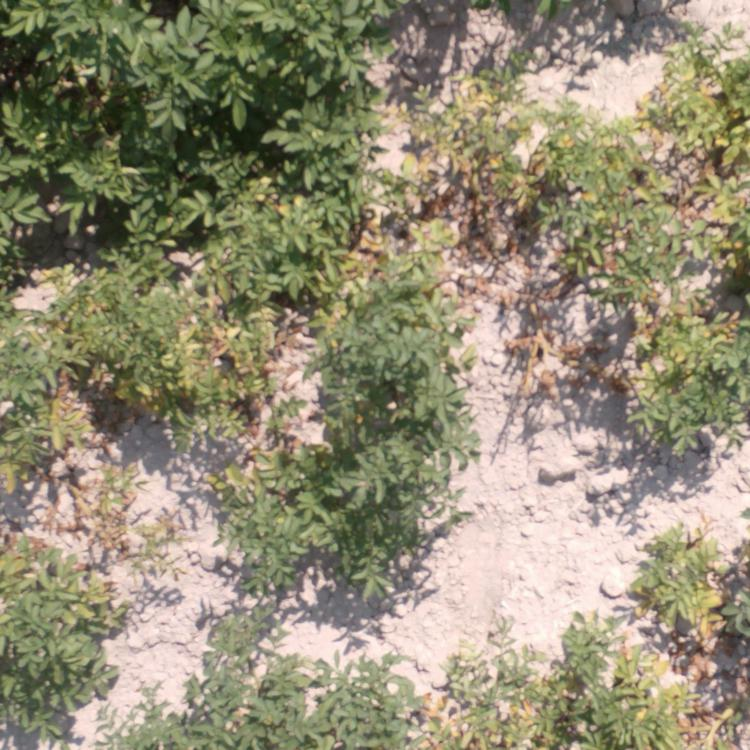healthy: (1, 1, 126, 225), (245, 455, 431, 592), (1, 545, 112, 741), (327, 330, 470, 454), (129, 1, 203, 232), (230, 1, 347, 141), (282, 654, 404, 750), (207, 605, 269, 750), (132, 681, 188, 750), (358, 1, 486, 28)
stressed: (361, 83, 536, 246), (639, 47, 750, 297), (95, 275, 256, 416), (571, 631, 749, 750), (611, 304, 750, 453), (541, 116, 645, 289), (406, 656, 574, 746), (209, 163, 343, 270), (626, 525, 750, 630), (1, 322, 77, 470), (349, 249, 476, 323)
